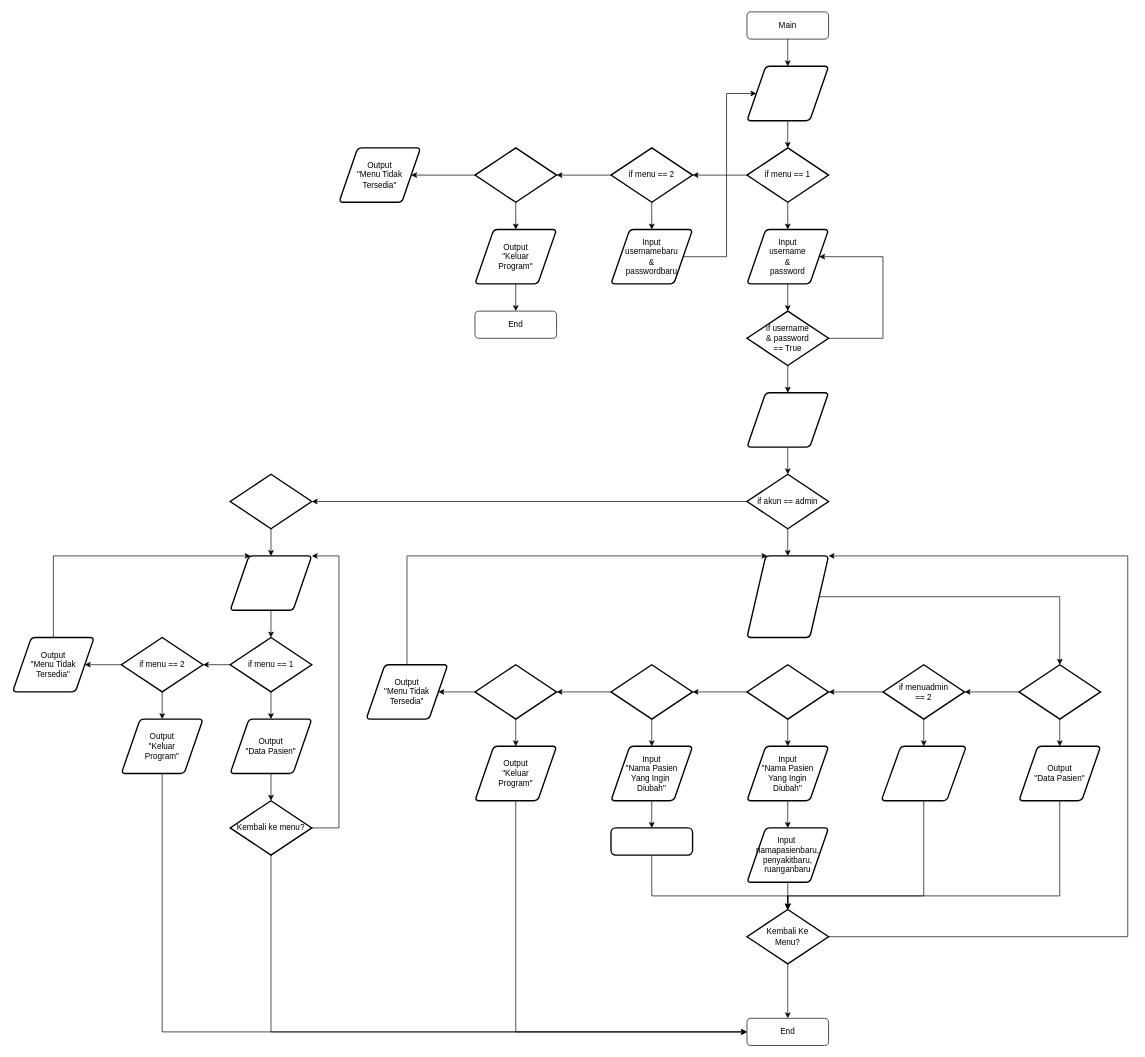
This 1145x1057 diagram has some shape labels left out. Each missing label, with the centre of its shape:
del datapasien[nama]: pixel 651 841
if akun == guest: pixel 270 501
if menu == 3: pixel 515 175
if menuadmin == 1: pixel 1059 691
if menuadmin == 3: pixel 787 691
if menuadmin == 4: pixel 651 691
if menuadmin == 5: pixel 515 691
Input "Menu 1. Lihat Data 2. Keluar": pixel 270 583
Input "Menu 1. Lihat Data 2. Tambah Data 3. Ubah Data 4. Hapus Data 5. Keluar: pixel 787 596
Input "Menu 1. Login 2. Buat Akun 3. Keluar": pixel 787 93
Input namapasien, penyakit, ruangan: pixel 923 773
Output "Login Berhasil": pixel 787 419
